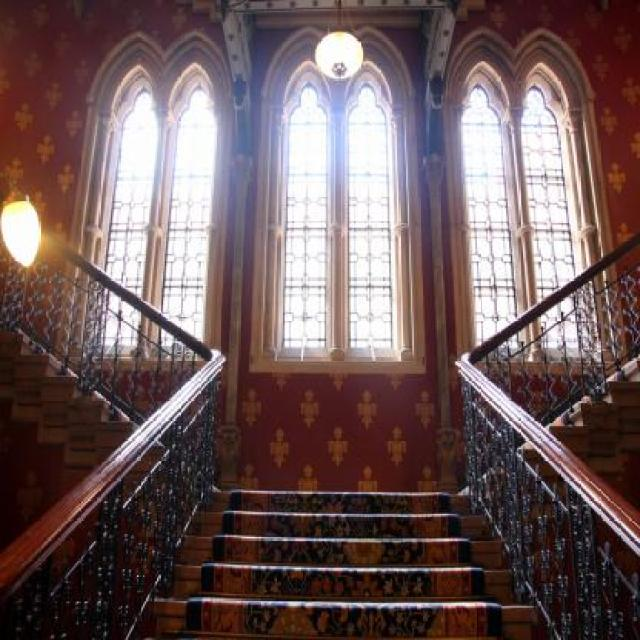stair: (147, 489, 536, 640), (458, 352, 640, 494), (0, 326, 163, 443)
